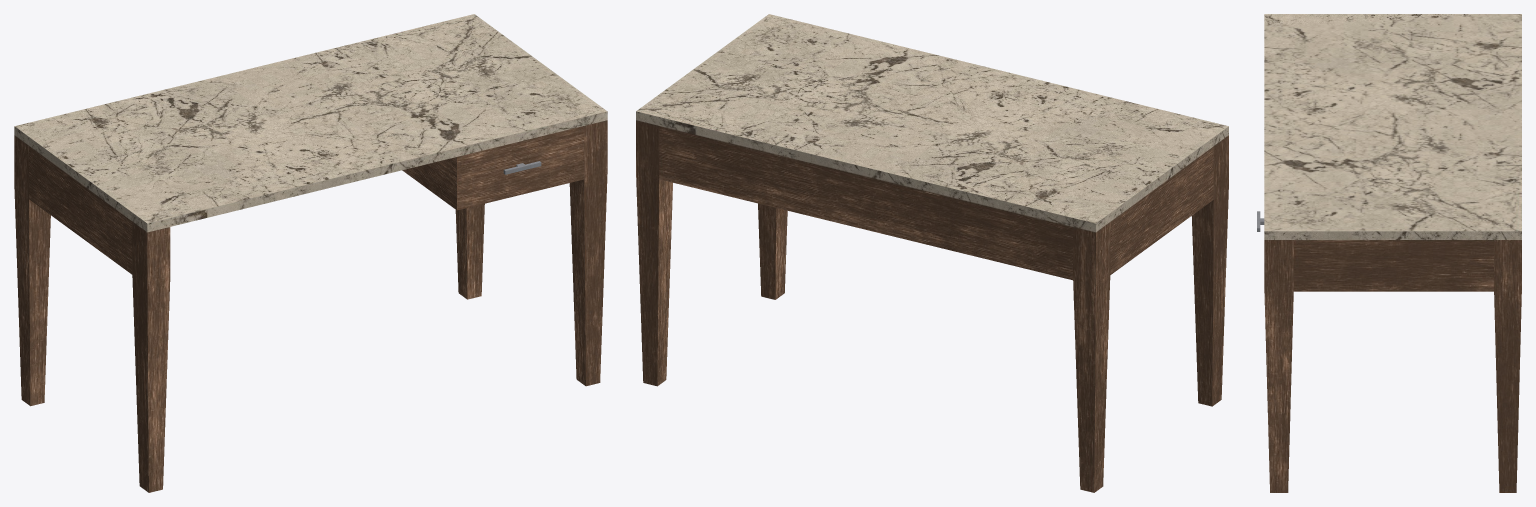
3 views of the same model, side by side, from view 1: azimuth 30°, elevation 25°; view 2: azimuth 150°, elevation 25°; view 3: azimuth 270°, elevation 25° (orthographic). The views are drawn at different scales.
Parts seen in each view (by area): view 1: Desk; view 2: Desk; view 3: Desk.
Boxes of the visible parts, box(x1,y1,x2,y2) form: Desk: box(14, 14, 607, 492); Desk: box(636, 14, 1228, 492); Desk: box(1257, 14, 1521, 492).
Bounding box in the file's own units: 200 × 113 × 103.
Materials: 1 (1 with a texture image).
